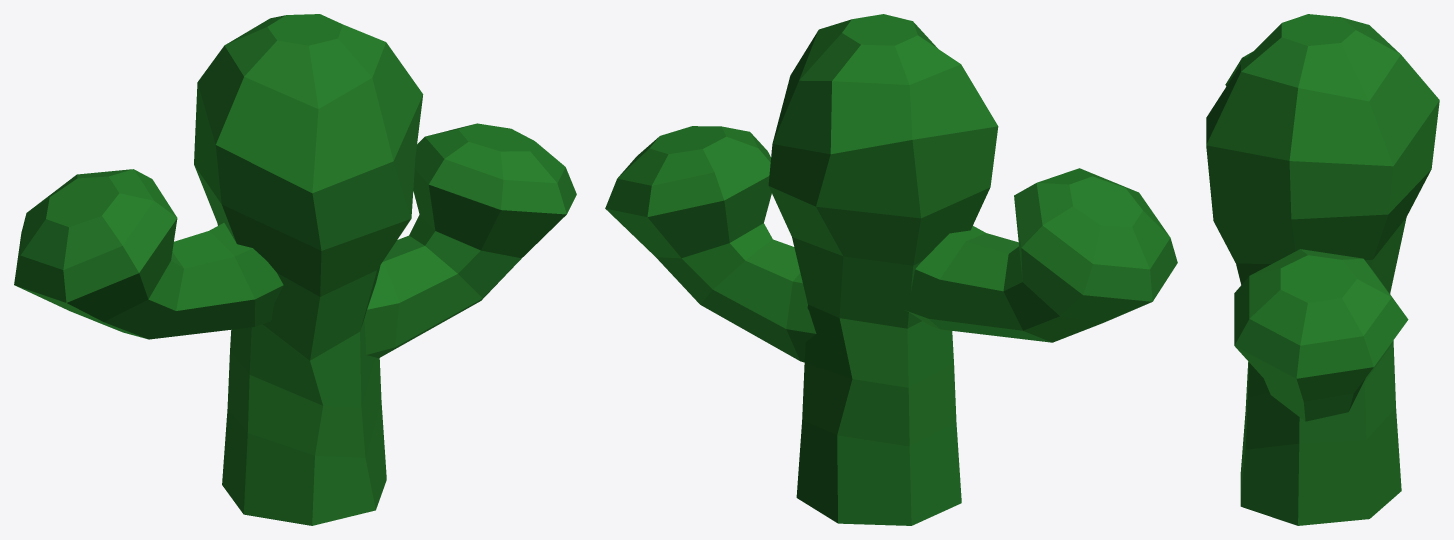
The model's file is Cactus_3_Green.fbx.
The picture shows the model from 3 angles, left to right: view 1: azimuth 30°, elevation 25°; view 2: azimuth 150°, elevation 25°; view 3: azimuth 270°, elevation 25°; orthographic projection.
Parts seen in each view (by area): view 1: Cactus_3_Green; view 2: Cactus_3_Green; view 3: Cactus_3_Green.
Boxes of the visible parts, x1,y1,x2,y2 form: Cactus_3_Green: [14, 14, 576, 525]; Cactus_3_Green: [605, 14, 1177, 525]; Cactus_3_Green: [1206, 14, 1439, 525].
Size of the model in its own units: 222 by 180 by 82.67.
